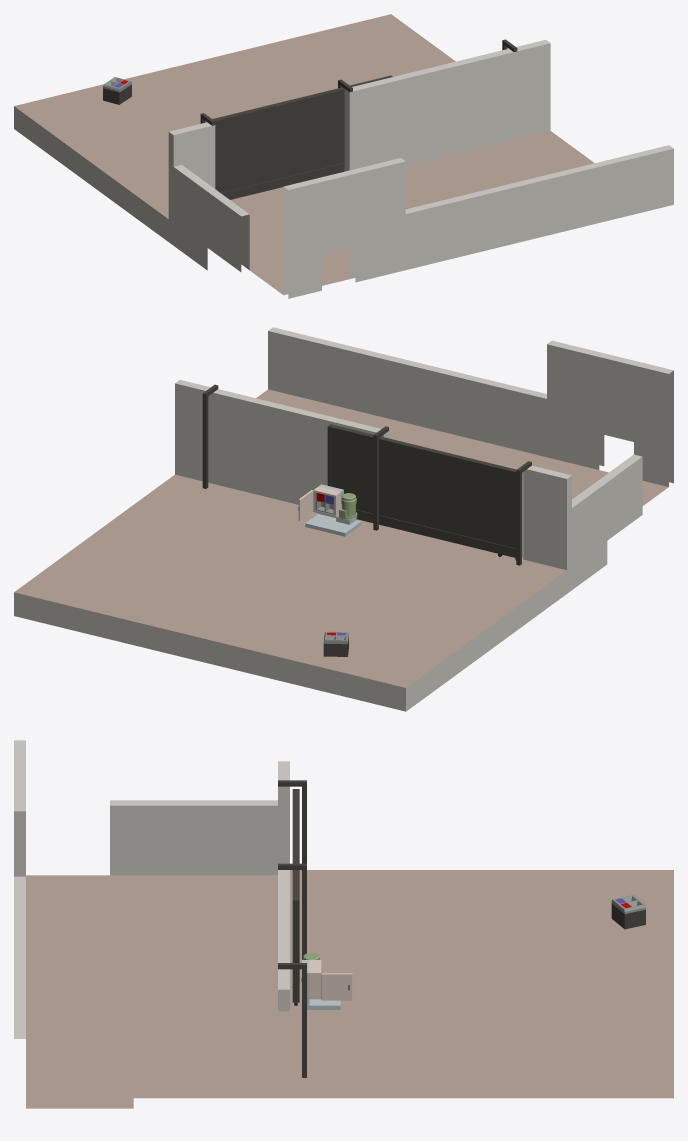
Rendered from BatteryRoom.fbx.
The picture shows the model from 3 angles, top to bottom: view 1: azimuth 30°, elevation 25°; view 2: azimuth 150°, elevation 25°; view 3: azimuth 270°, elevation 25°; orthographic projection. The views are drawn at different scales.
Parts seen in each view (by area): view 1: BatteryWalls, AutomaticDoorWall, MotorGateWall.001, MotorGate.001; view 2: BatteryWalls, AutomaticDoorWall, MotorGateWall.001, MotorGate.001, GateMotor.001; view 3: BatteryWalls, MotorGateWall.001, AutomaticDoorWall, MotorGate.001, GateMotor.001, GateMotorDoor.002.
Boxes of the visible parts, x1=… form: BatteryWalls: x1=14, y1=14, x2=594, y2=294; AutomaticDoorWall: x1=283, y1=145, x2=673, y2=298; MotorGateWall.001: x1=168, y1=39, x2=550, y2=222; MotorGate.001: x1=212, y1=75, x2=392, y2=199; BatteryWalls: x1=14, y1=389, x2=668, y2=711; AutomaticDoorWall: x1=268, y1=327, x2=673, y2=486; MotorGateWall.001: x1=175, y1=380, x2=571, y2=569; MotorGate.001: x1=327, y1=424, x2=522, y2=560; GateMotor.001: x1=305, y1=484, x2=361, y2=536; BatteryWalls: x1=26, y1=800, x2=673, y2=1108; MotorGateWall.001: x1=278, y1=761, x2=306, y2=1077; AutomaticDoorWall: x1=14, y1=740, x2=25, y2=1038; MotorGate.001: x1=292, y1=789, x2=299, y2=1005; GateMotor.001: x1=301, y1=953, x2=340, y2=1009; GateMotorDoor.002: x1=321, y1=973, x2=352, y2=1000.
Bounding box in the file's own units: 23.5 × 7.5 × 27.49.
Materials: 1 (1 with a texture image).
